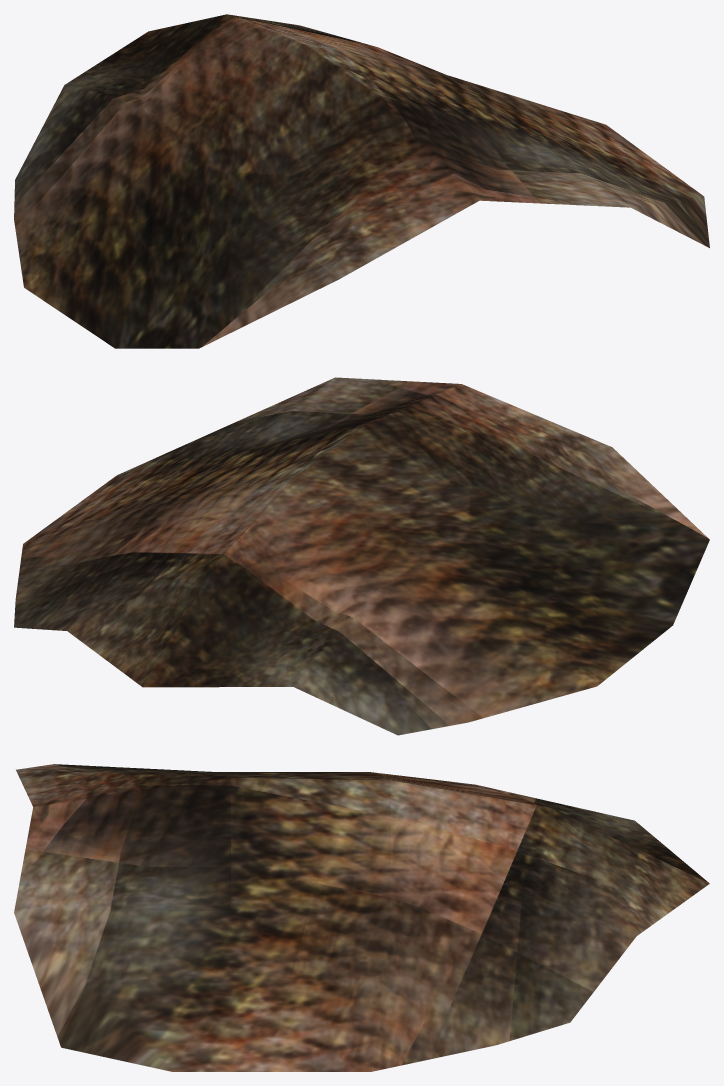
Rendered from fish_scale.fbx.
3 renders of one model, top to bottom at view 1: azimuth 30°, elevation 25°; view 2: azimuth 150°, elevation 25°; view 3: azimuth 270°, elevation 25°, orthographic. The views are drawn at different scales.
Visible parts, largest first — view 1: Plane; view 2: Plane; view 3: Plane.
Part boxes in pixels (x1,y1,x2,y2): Plane: (14,14,709,348); Plane: (14,377,709,735); Plane: (14,764,709,1071).
Bounding box in the file's own units: 218 × 55.78 × 218.
Materials: 1 (1 with a texture image).
